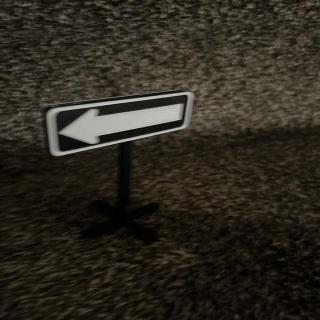sign_oneway_left: (46, 92, 196, 159)
